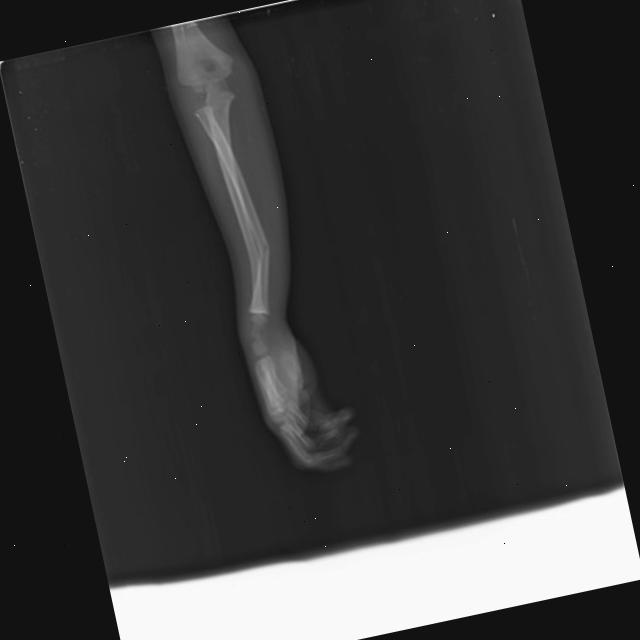Fracture: (254, 233, 271, 261)
